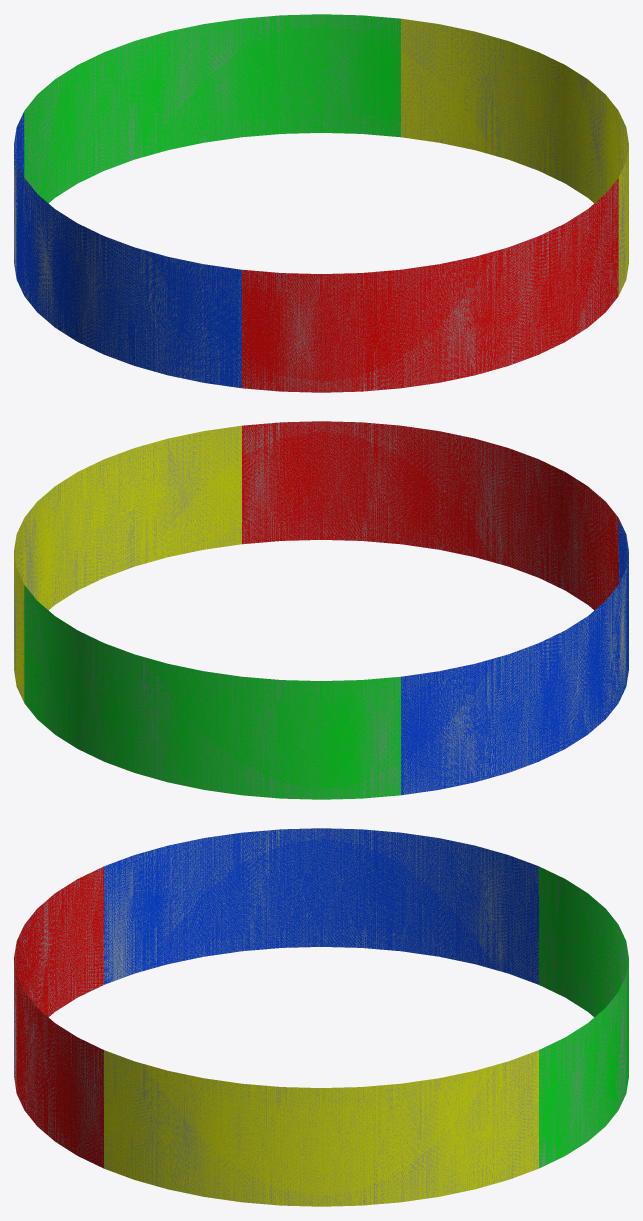
File: Screens_X.fbx
3 views of the same model, one above another, from view 1: azimuth 30°, elevation 25°; view 2: azimuth 150°, elevation 25°; view 3: azimuth 270°, elevation 25° (orthographic).
Parts seen in each view (by area): view 1: Group2, Group4, Group3, Group1; view 2: Group4, Group2, Group3, Group1; view 3: Group1, Group3, Group2, Group4.
Boxes of the visible parts, x1,y1,x2,y2 form: Group2: (242,178,618,392); Group4: (24,14,400,203); Group3: (14,111,241,388); Group1: (401,18,628,295); Group4: (24,585,400,799); Group2: (242,421,618,610); Group3: (401,518,628,795); Group1: (14,425,241,702); Group1: (104,1050,538,1206); Group3: (104,828,538,984); Group2: (14,866,103,1168); Group4: (539,866,628,1168).
Bounding box in the file's own units: 3120 × 664 × 3120.
